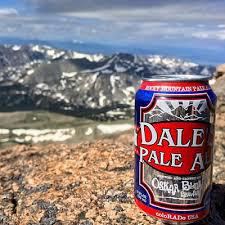beer: (134, 75, 215, 222)
